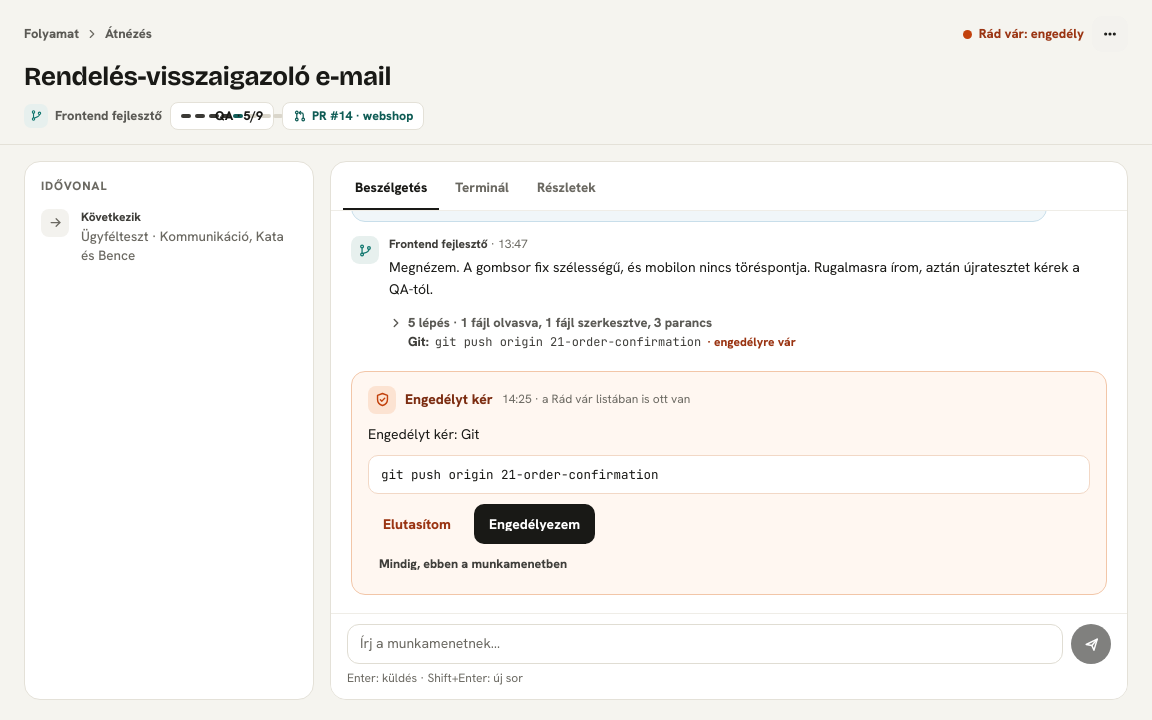
Test: session details public settings › names the agent CLI the session ran, even after the member switched
The image size is (1152, 720).
(page scrolled)
Click the tab "Részletek".
click(566, 189)  # box x1=525 y1=168 x2=608 y2=210
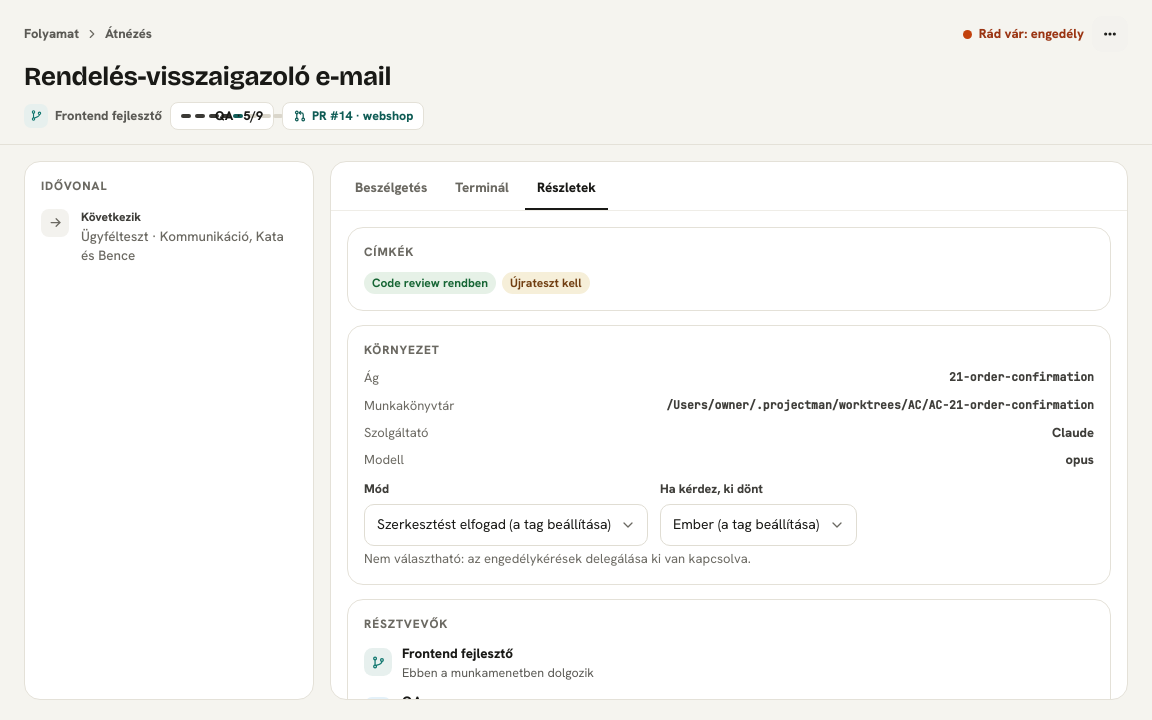
Check: the text "Claude" is shown, box x1=1052 y1=424 x2=1094 y2=442
